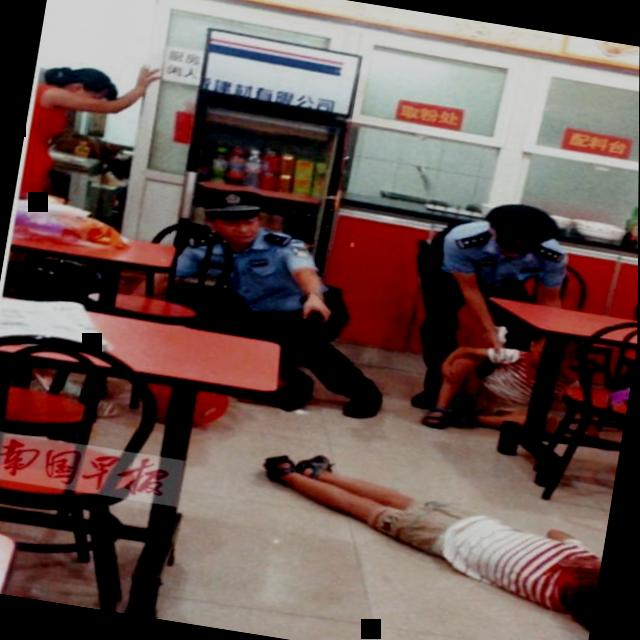Fall-Detected: (412, 314, 570, 448)
